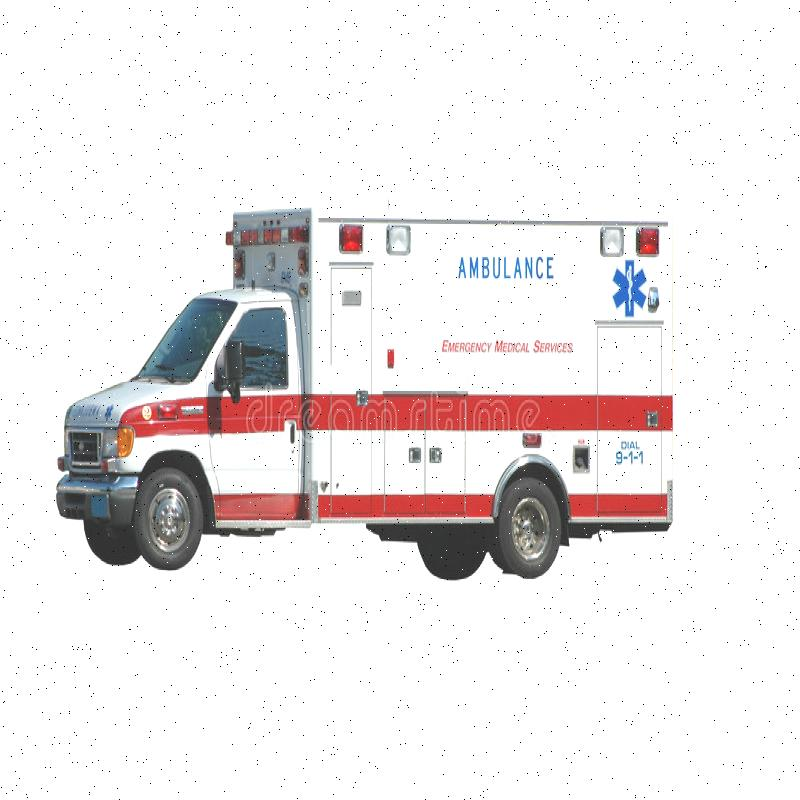ambulance: (57, 194, 681, 582)
